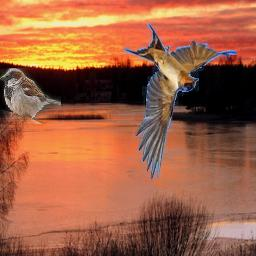Sparrow: (0, 68, 61, 124)
Swallow: (123, 23, 237, 180)
